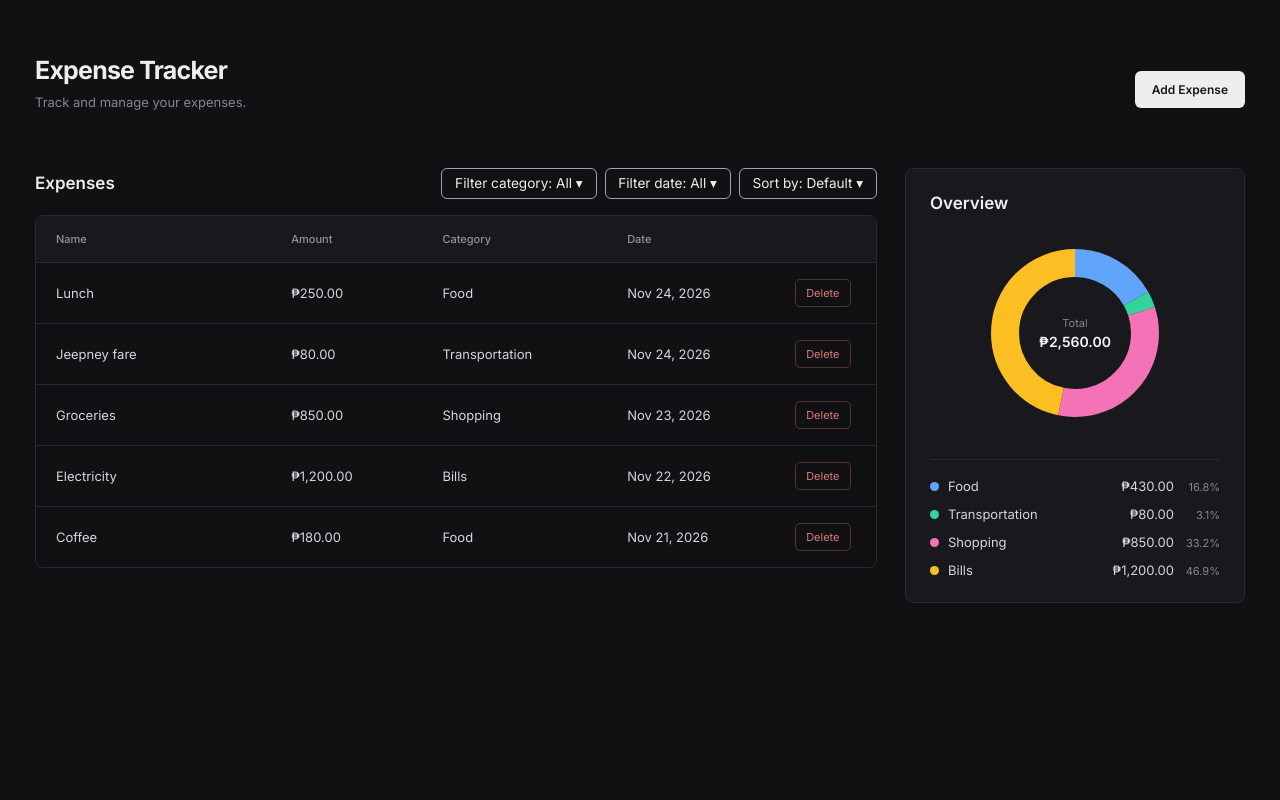
Scenario: ExpenseTracker App › opens the add expense form
Click the button "Add Expense".
click(1190, 89)  # box [1135, 70, 1245, 108]
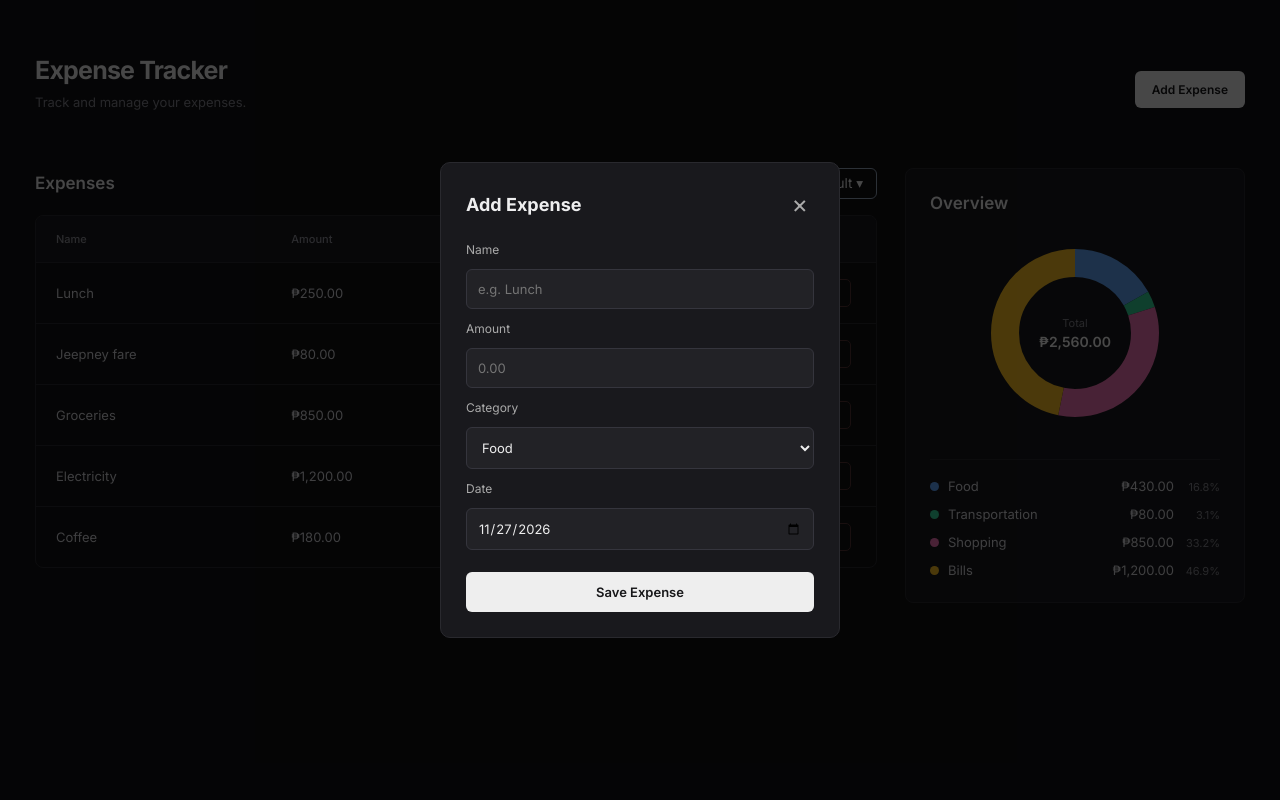
Now the field labelled "Name" is shown, box [466, 269, 814, 309]
Now the number field labelled "Amount" is shown, box [466, 348, 814, 388]
Now the dropdown labelled "Category" is shown, box [466, 427, 814, 469]
